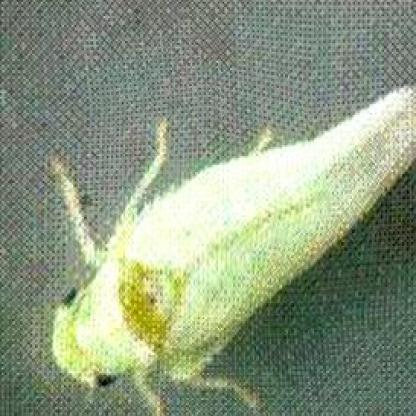green-leafhopper: (45, 80, 416, 416)
